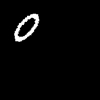chain: (15, 14, 38, 40)
